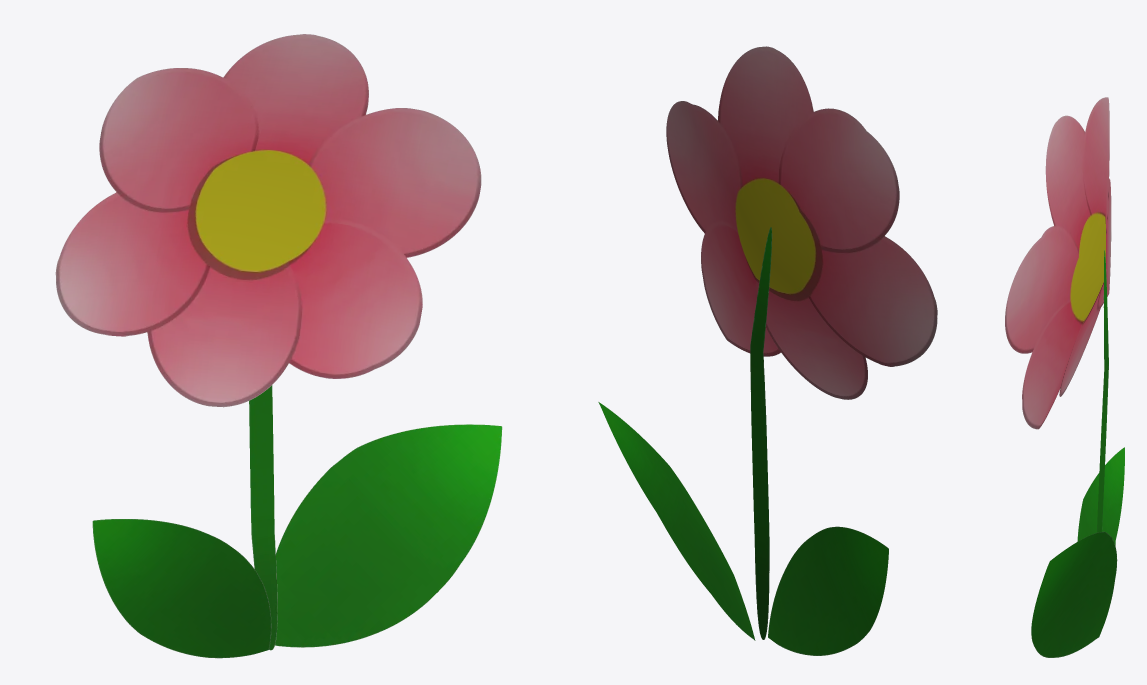
The model's file is tulip.glb.
The picture shows the model from 3 angles, left to right: view 1: azimuth 30°, elevation 25°; view 2: azimuth 150°, elevation 25°; view 3: azimuth 270°, elevation 25°; orthographic projection. The views are drawn at different scales.
Visible parts, largest first — view 1: Plane.002, Plane.004, Plane.001, Plane.005; view 2: Plane.002, Plane.001, Plane.004, Plane.005; view 3: Plane.002, Plane.004, Plane.001, Plane.005.
Part boxes in pixels (bbox=[...]): Plane.002: bbox=[55, 34, 481, 407]; Plane.004: bbox=[275, 424, 502, 647]; Plane.001: bbox=[92, 519, 271, 658]; Plane.005: bbox=[249, 385, 277, 650]; Plane.002: bbox=[666, 46, 937, 399]; Plane.001: bbox=[768, 526, 888, 655]; Plane.004: bbox=[598, 402, 755, 640]; Plane.005: bbox=[750, 227, 772, 639]; Plane.002: bbox=[1005, 97, 1111, 429]; Plane.004: bbox=[1031, 531, 1117, 657]; Plane.001: bbox=[1077, 447, 1124, 545]; Plane.005: bbox=[1096, 250, 1108, 532].
Bounding box in the file's own units: 1.57 × 2.11 × 0.4458.
1 material, 1 textured.
